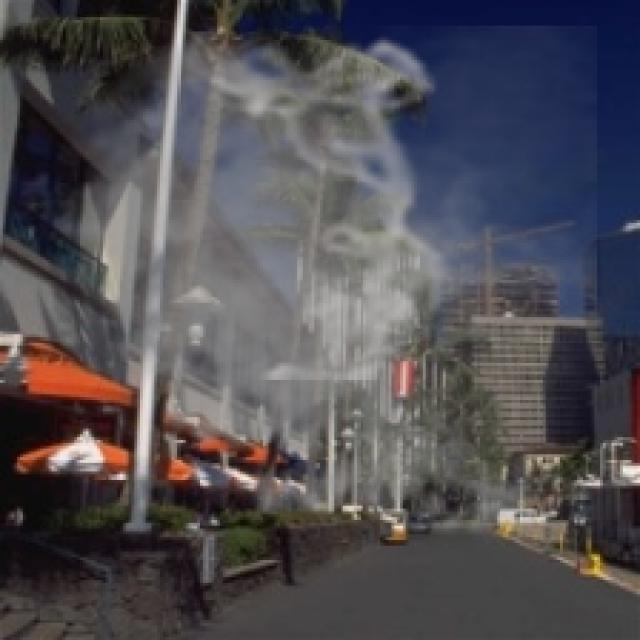Smoke: (37, 26, 597, 552)
